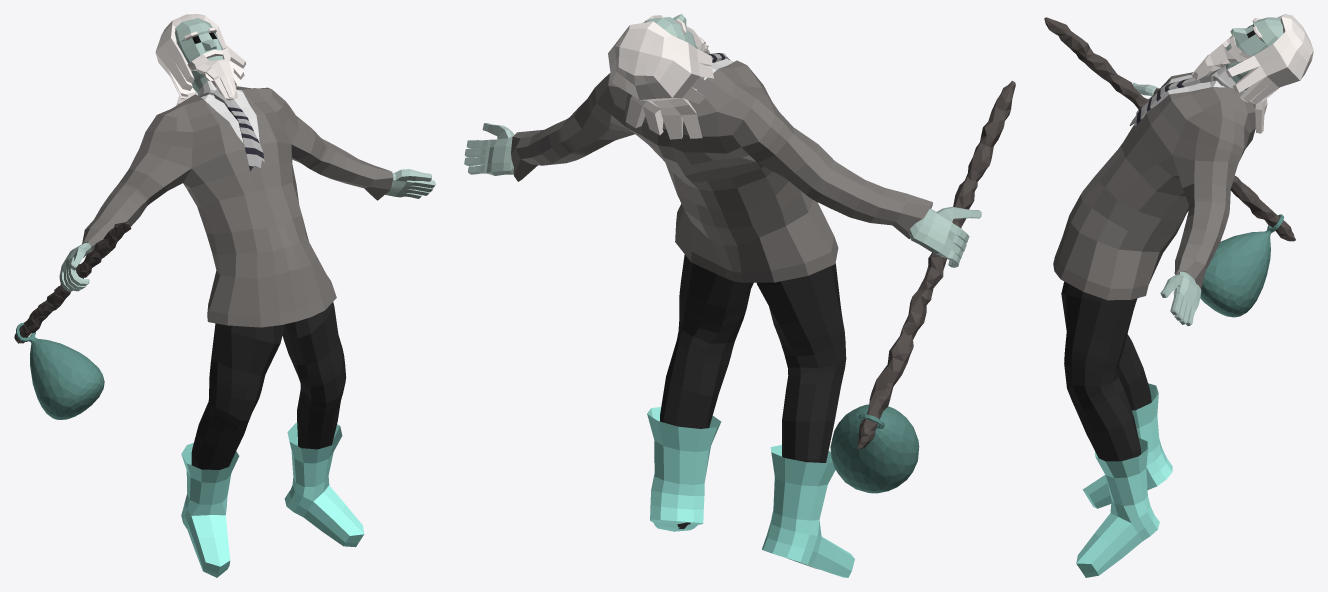
File: HoboGhost.fbx
The picture shows the model from 3 angles, left to right: view 1: azimuth 30°, elevation 25°; view 2: azimuth 150°, elevation 25°; view 3: azimuth 270°, elevation 25°; orthographic projection. The views are drawn at different scales.
Parts seen in each view (by area): view 1: HoboGhost; view 2: HoboGhost; view 3: HoboGhost.
Boxes of the visible parts, x1,y1,x2,y2 form: HoboGhost: (14, 14, 435, 577); HoboGhost: (464, 14, 1015, 577); HoboGhost: (1044, 14, 1313, 577).
Bounding box in the file's own units: 153 × 185 × 86.57.
